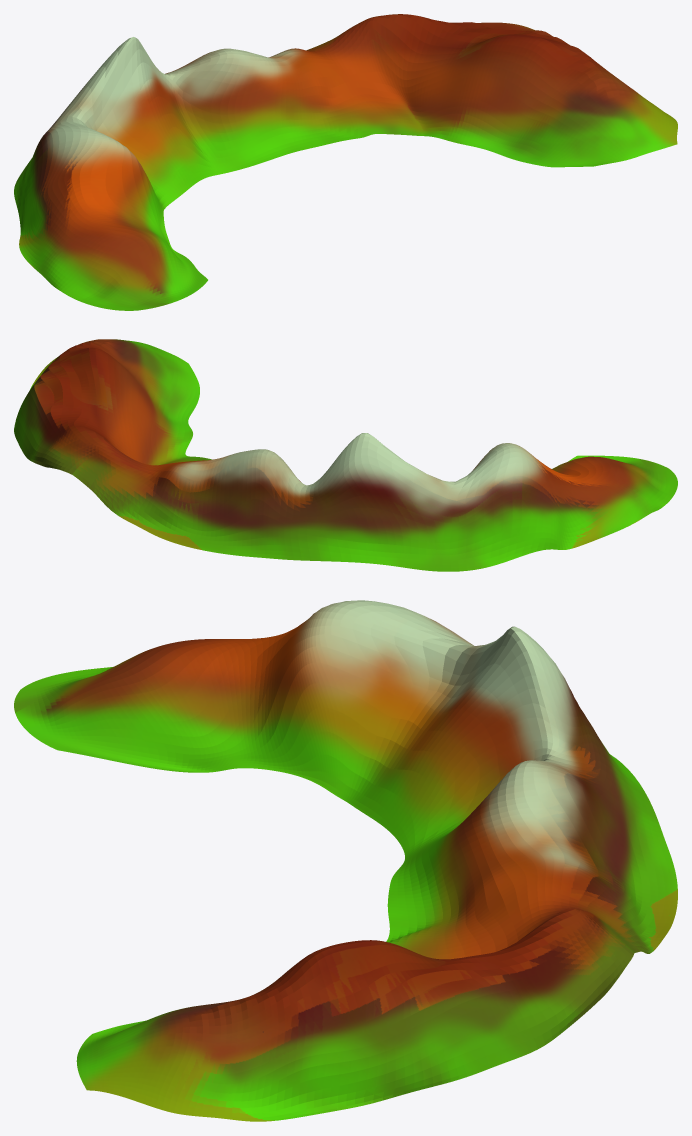
Rendered from mount.glb.
3 renders of one model, top to bottom at view 1: azimuth 30°, elevation 25°; view 2: azimuth 150°, elevation 25°; view 3: azimuth 270°, elevation 25°, orthographic. The views are drawn at different scales.
Parts seen in each view (by area): view 1: Plane; view 2: Plane; view 3: Plane.
Boxes of the visible parts, x1=… form: Plane: x1=14, y1=14, x2=677, y2=310; Plane: x1=14, y1=339, x2=677, y2=571; Plane: x1=14, y1=600, x2=677, y2=1121.
Bounding box in the file's own units: 50.56 × 9.56 × 30.18.
1 material, 1 textured.
